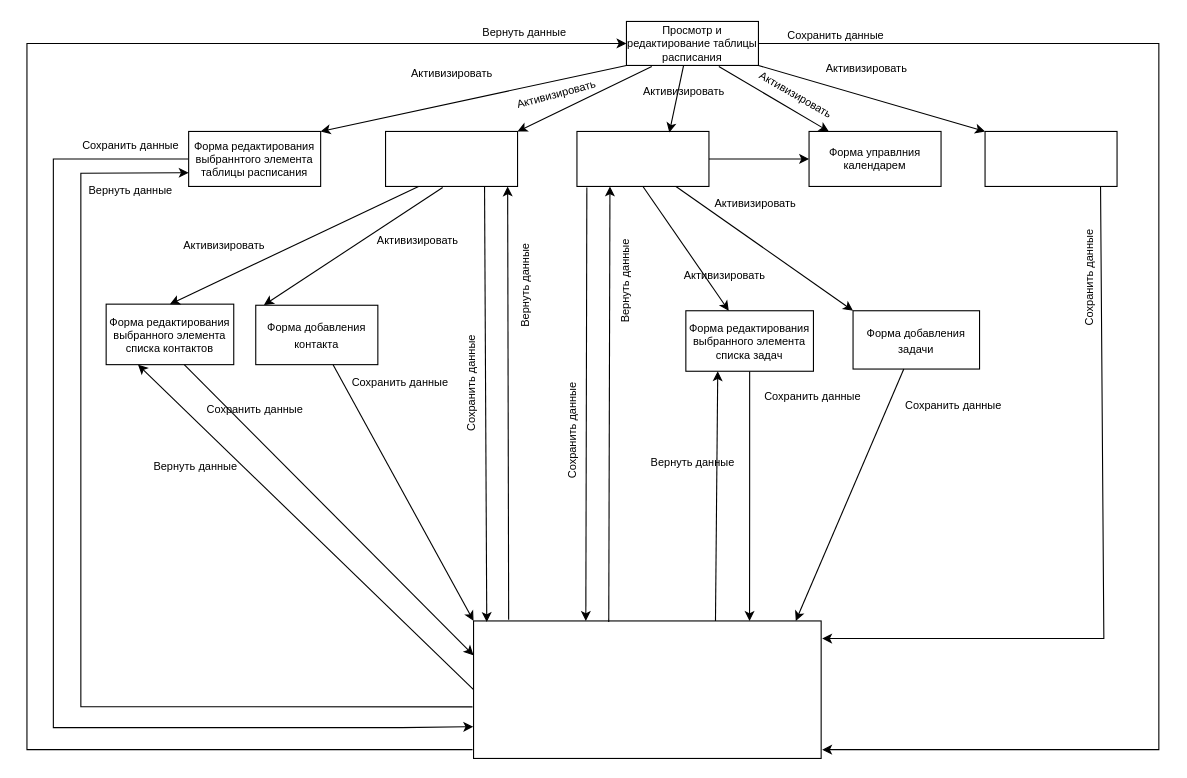
Some shapes in this 1187 by 778 pixel diagram are drawn without their labels. Each missing label, with the centre of its shape:
База данных: the point at 646,689
Просмотр и редактирование списка задач: the point at 642,158
Просмотр и редактирование списка контактов: the point at 451,158
Форма добавления элемента в таблицу расписания: the point at 1050,158
